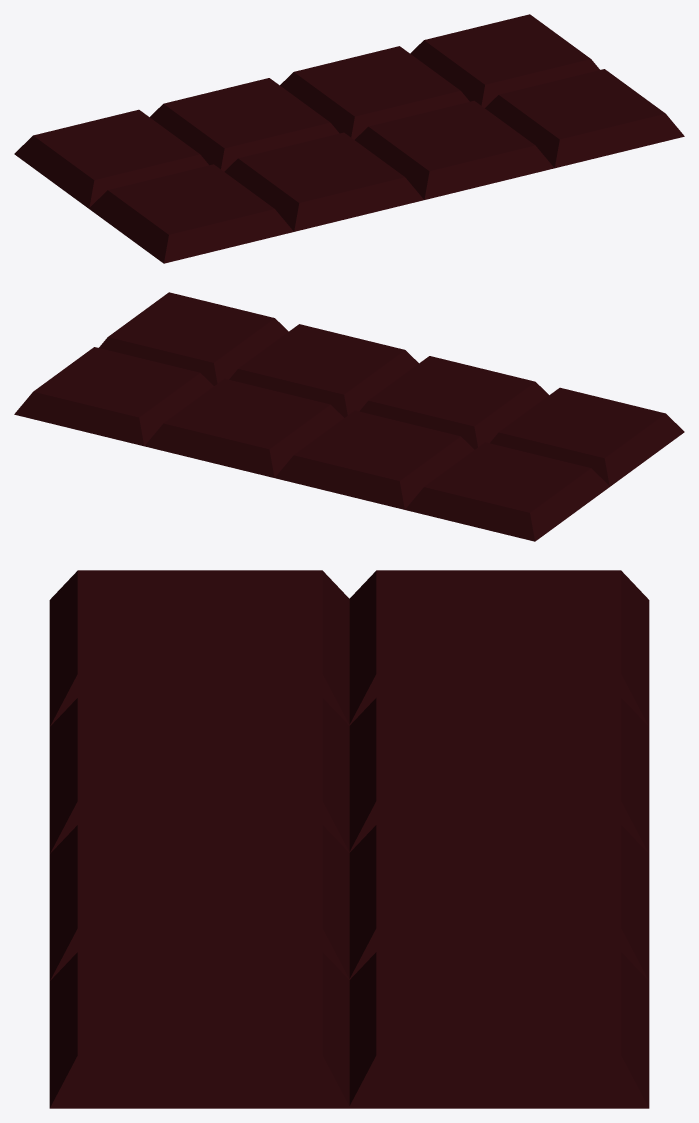
The model's file is LBSR_ChocolateBar_unwrapped.fbx.
The picture shows the model from 3 angles, top to bottom: view 1: azimuth 30°, elevation 25°; view 2: azimuth 150°, elevation 25°; view 3: azimuth 270°, elevation 25°; orthographic projection. The views are drawn at different scales.
Visible parts, largest first — view 1: chocolate, chocolate2; view 2: chocolate2, chocolate; view 3: chocolate, chocolate2.
Part boxes in pixels (bbox=[...]): chocolate: bbox=[89, 69, 684, 263]; chocolate2: bbox=[14, 14, 599, 208]; chocolate2: bbox=[14, 347, 609, 541]; chocolate: bbox=[99, 292, 684, 486]; chocolate: bbox=[49, 570, 350, 1108]; chocolate2: bbox=[349, 570, 649, 1108].
Bounding box in the file's own units: 3.31 × 0.1259 × 1.65.
